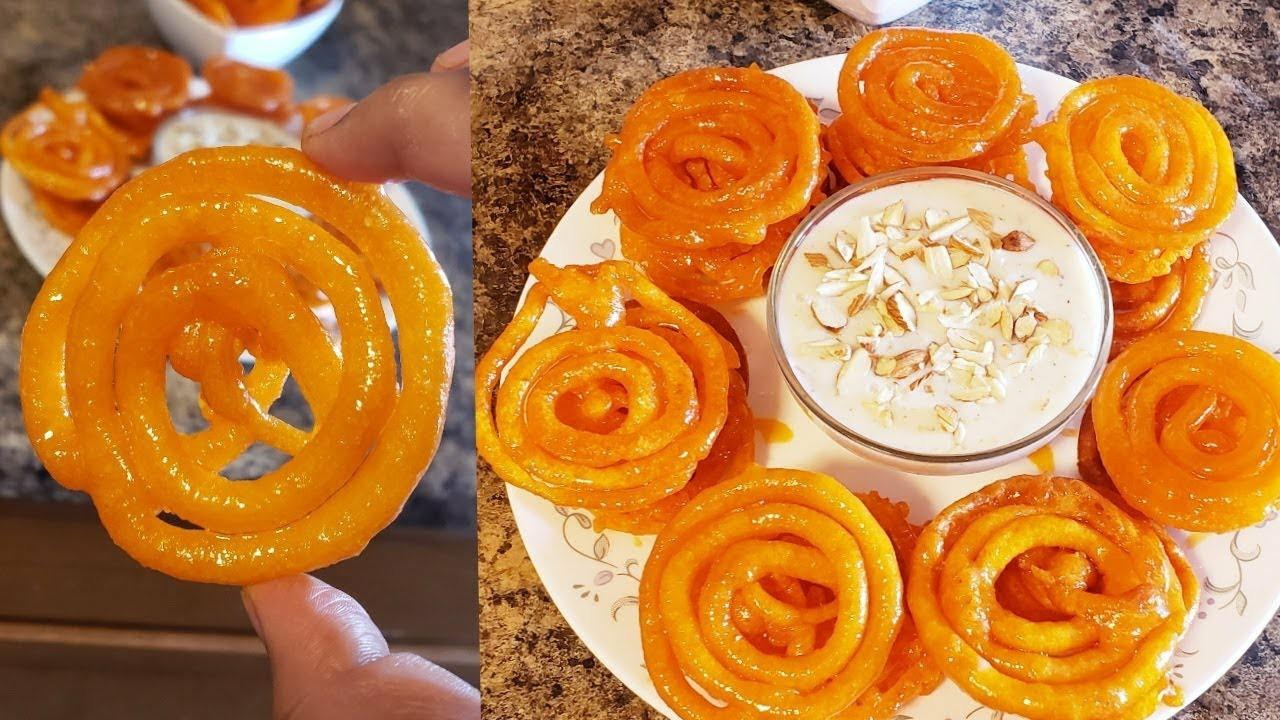Jalebi: (12, 139, 457, 589), (475, 255, 752, 526), (908, 470, 1200, 719), (638, 462, 901, 720), (598, 64, 820, 304), (1056, 67, 1221, 324), (828, 29, 1024, 197)
